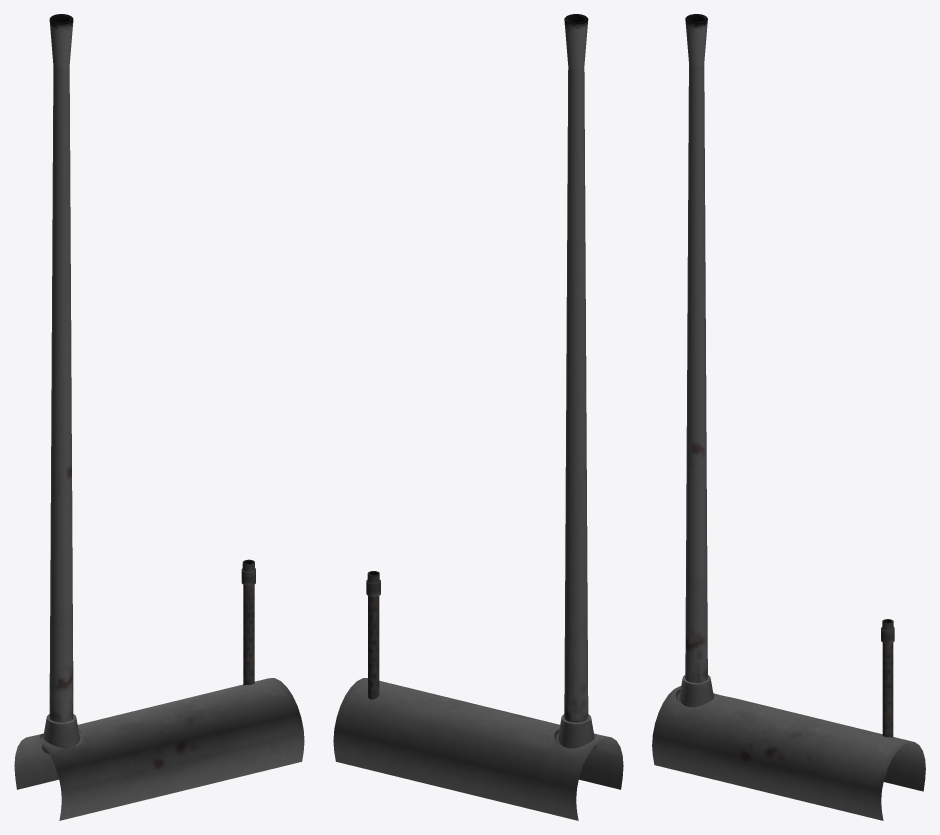
Rendered from Gun_06.glb.
3 renders of one model, left to right at view 1: azimuth 30°, elevation 25°; view 2: azimuth 150°, elevation 25°; view 3: azimuth 330°, elevation 25°, orthographic. The views are drawn at different scales.
Parts seen in each view (by area): view 1: set_0_group_0; view 2: set_0_group_0; view 3: set_0_group_0.
Part boxes in pixels (x1=…): set_0_group_0: x1=14, y1=14, x2=304, y2=820; set_0_group_0: x1=333, y1=14, x2=623, y2=820; set_0_group_0: x1=652, y1=14, x2=925, y2=820.
Bounding box in the file's own units: 0.7421 × 2.28 × 0.2509.
1 material, 1 textured.
